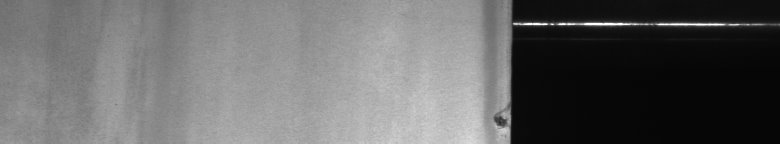hb: (480, 101, 500, 136)
